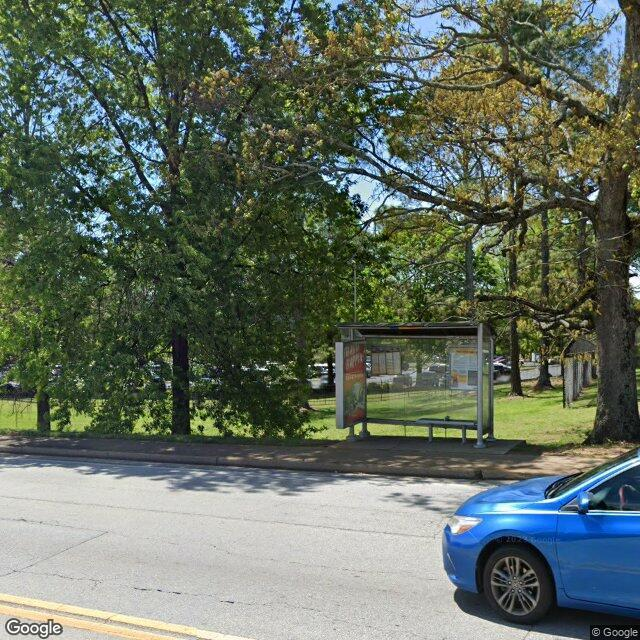seating: (416, 416, 476, 444)
shelter: (334, 322, 496, 448)
